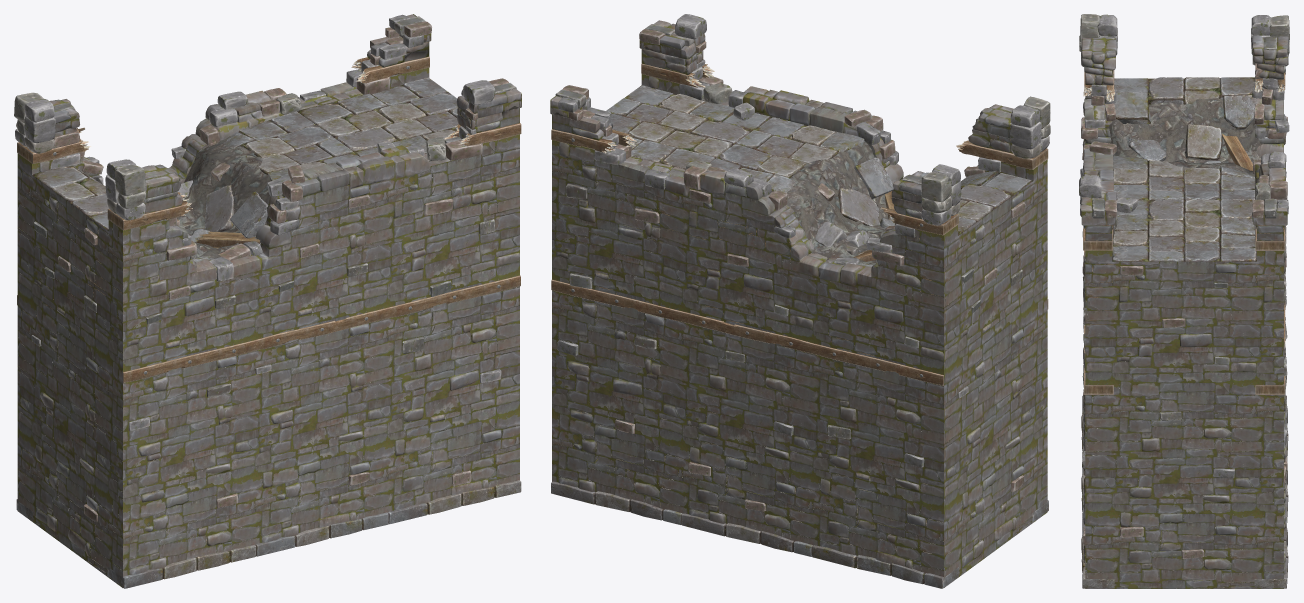
The picture shows the model from 3 angles, left to right: view 1: azimuth 30°, elevation 25°; view 2: azimuth 150°, elevation 25°; view 3: azimuth 270°, elevation 25°; orthographic projection. The views are drawn at different scales.
Visible parts, largest first — view 1: SM_Castle_Wall_4x12_01_Dmg_v6_LOD0; view 2: SM_Castle_Wall_4x12_01_Dmg_v6_LOD0; view 3: SM_Castle_Wall_4x12_01_Dmg_v6_LOD0.
Boxes of the visible parts, x1,y1,x2,y2 form: SM_Castle_Wall_4x12_01_Dmg_v6_LOD0: (14, 14, 521, 588); SM_Castle_Wall_4x12_01_Dmg_v6_LOD0: (550, 14, 1050, 588); SM_Castle_Wall_4x12_01_Dmg_v6_LOD0: (1079, 14, 1289, 588).
Size of the model in its own units: 12.2 by 12 by 5.83.
Materials: 6 (6 with a texture image).
